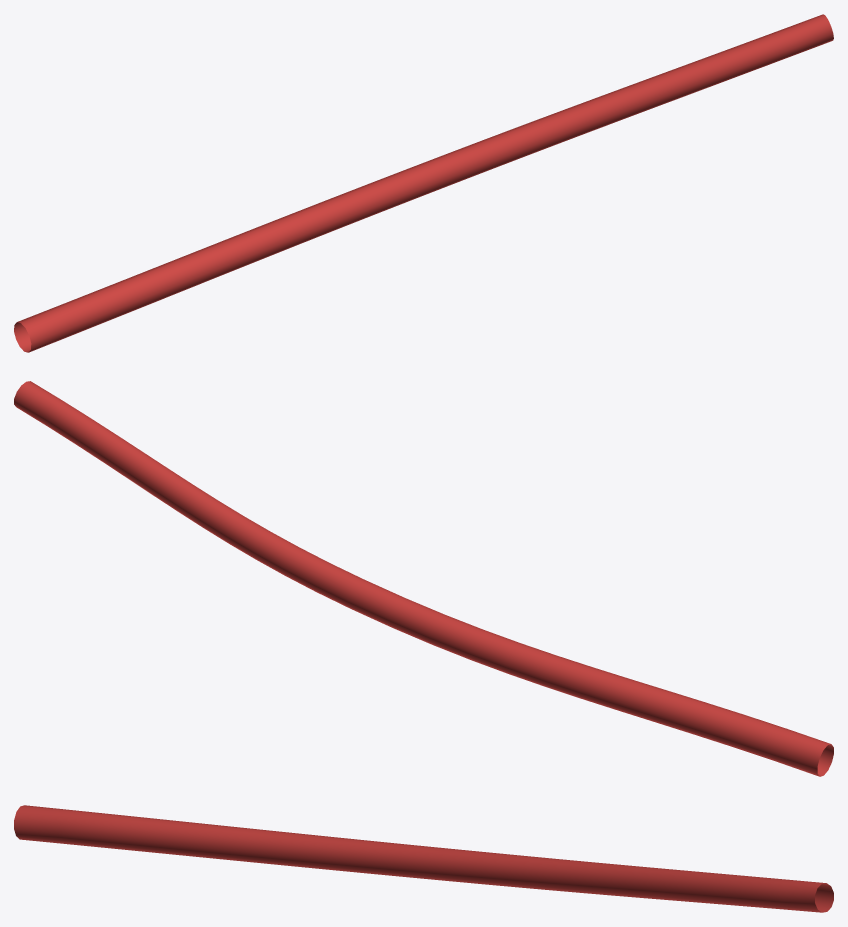
3 renders of one model, top to bottom at view 1: azimuth 30°, elevation 25°; view 2: azimuth 150°, elevation 25°; view 3: azimuth 330°, elevation 25°, orthographic. The views are drawn at different scales.
Visible parts, largest first — view 1: 左侧桡动脉掌腕支; view 2: 左侧桡动脉掌腕支; view 3: 左侧桡动脉掌腕支.
Part boxes in pixels (<box>): 左侧桡动脉掌腕支: <box>14,14,833,352</box>; 左侧桡动脉掌腕支: <box>14,381,833,776</box>; 左侧桡动脉掌腕支: <box>14,805,833,912</box>.
Bounding box in the file's own units: 0.0402 × 0.00803 × 0.0043.
